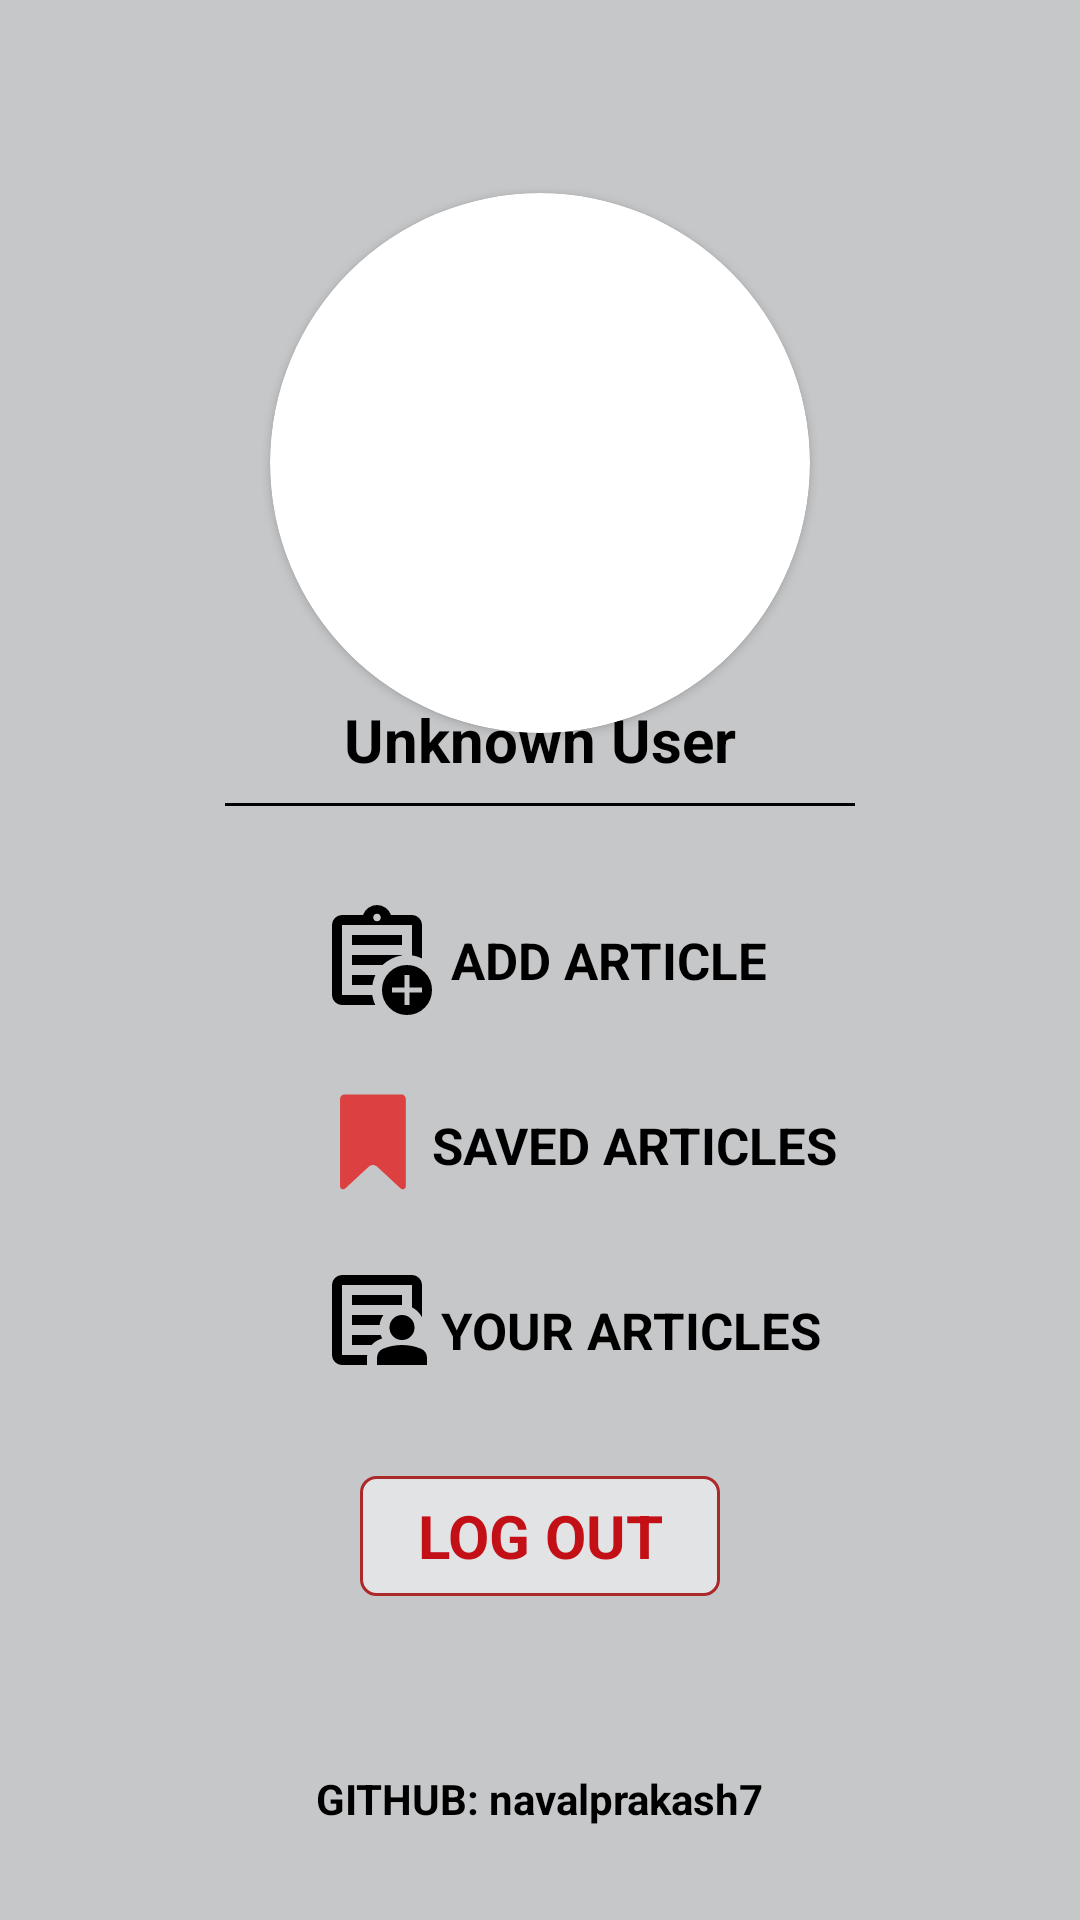

Icon bounding boxes for this 1080×1920 phone screenshot, format (x1, y1, x2, y2):
assignment add: (332, 905, 432, 1015)
